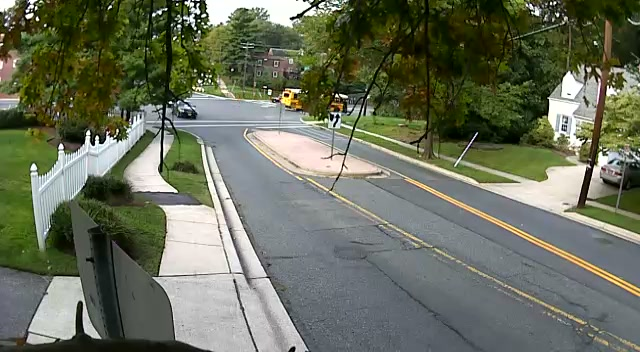car: (600, 152, 640, 190), (176, 101, 198, 119)
